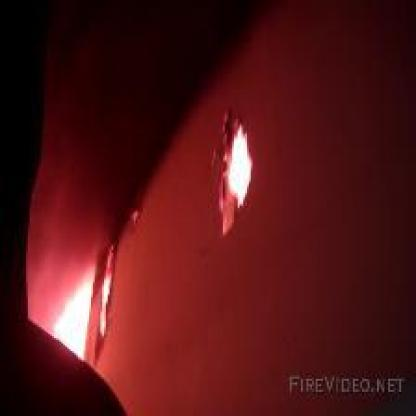fire: (57, 249, 114, 352), (214, 122, 254, 210)
